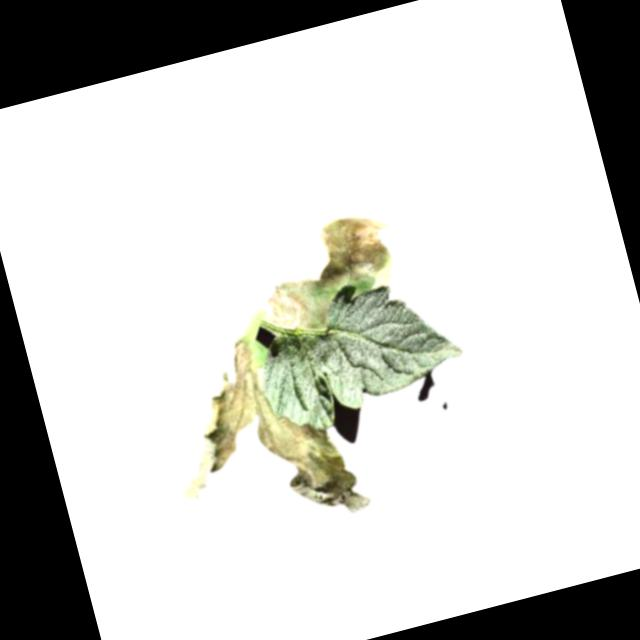Late_blight: (147, 319, 373, 556), (246, 201, 411, 340)
healthy: (245, 260, 476, 441)
